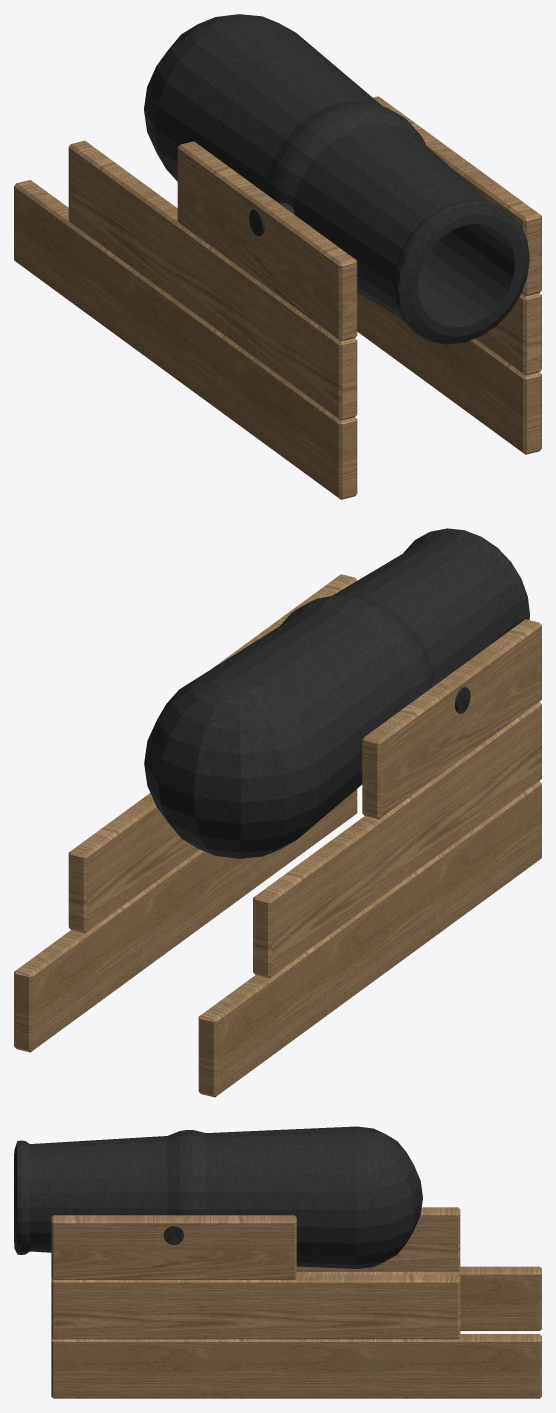
Rendered from Cannon.fbx.
3 views of the same model, one above another, from view 1: azimuth 30°, elevation 25°; view 2: azimuth 150°, elevation 25°; view 3: azimuth 270°, elevation 25° (orthographic). The views are drawn at different scales.
Visible parts, largest first — view 1: Base, Cannon; view 2: Base, Cannon; view 3: Base, Cannon.
Boxes of the visible parts, bbox=[...] form: Base: bbox=[14, 96, 541, 499]; Cannon: bbox=[144, 14, 529, 344]; Base: bbox=[14, 574, 541, 1097]; Cannon: bbox=[144, 528, 529, 858]; Base: bbox=[51, 1207, 541, 1398]; Cannon: bbox=[14, 1126, 422, 1268].
Bounding box in the file's own units: 2.2 × 3.09 × 6.45.
